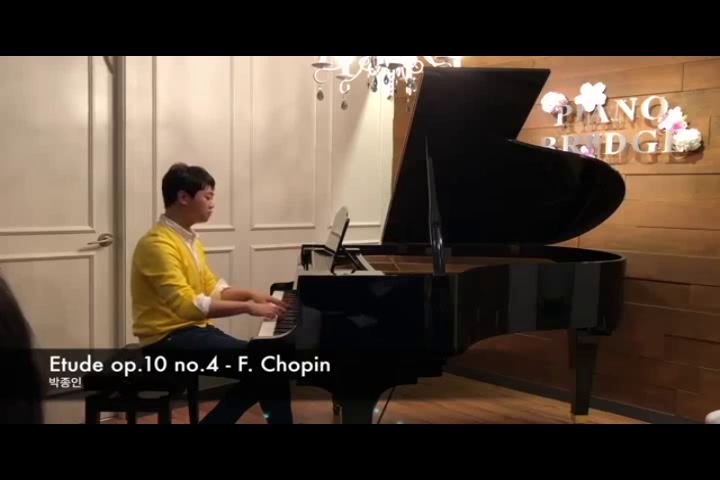keyboard: (249, 283, 301, 341)
